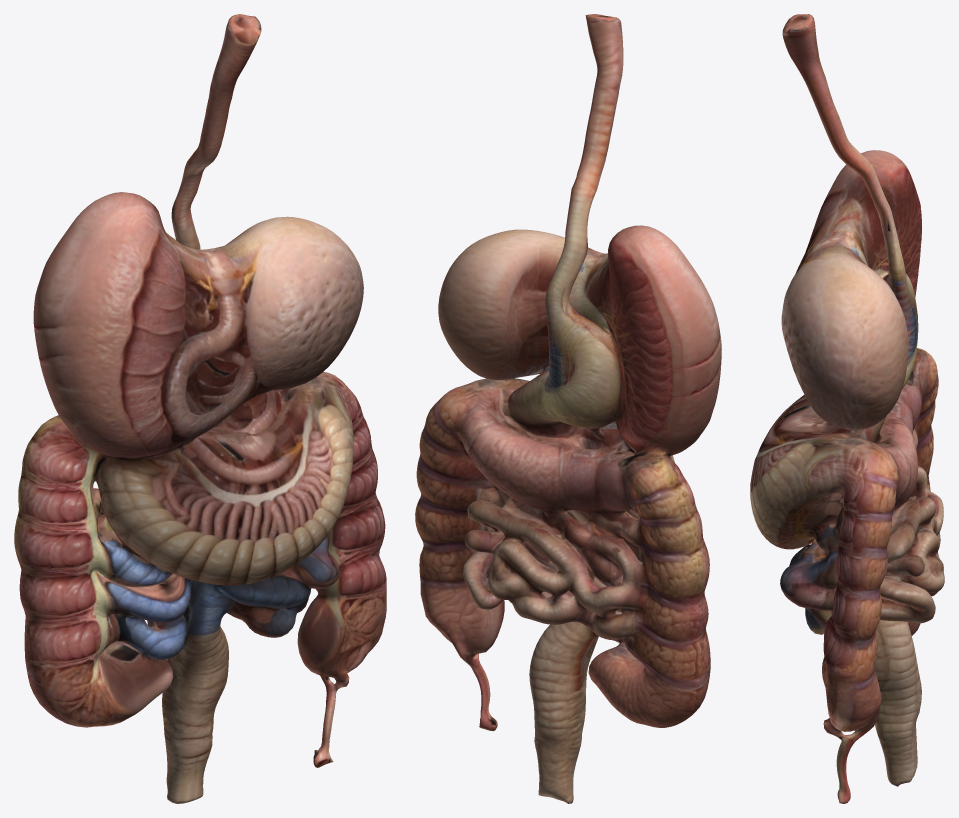
File: digestive-sistem.glb
3 views of the same model, side by side, from view 1: azimuth 30°, elevation 25°; view 2: azimuth 150°, elevation 25°; view 3: azimuth 270°, elevation 25° (orthographic). The views are drawn at different scales.
Visible parts, largest first — view 1: Stylized Digestive System_0; view 2: Stylized Digestive System_0; view 3: Stylized Digestive System_0.
Part boxes in pixels (x1=…): Stylized Digestive System_0: x1=14, y1=14, x2=386, y2=803; Stylized Digestive System_0: x1=415, y1=14, x2=721, y2=803; Stylized Digestive System_0: x1=750, y1=14, x2=944, y2=803.
Size of the model in its own units: 0.1756 by 0.4056 by 0.0935.
1 material, 1 textured.
